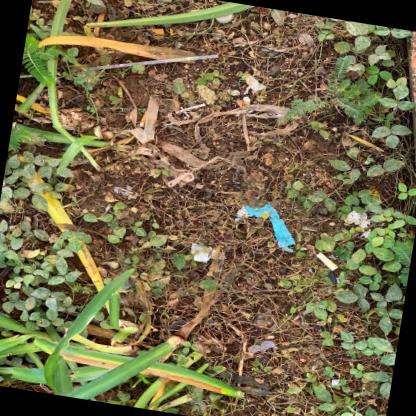Paper: (235, 202, 294, 251), (314, 252, 337, 270), (136, 109, 144, 126), (148, 27, 162, 34)
Plastic: (85, 52, 217, 69), (189, 241, 215, 261), (246, 339, 277, 353), (165, 171, 193, 185), (214, 12, 232, 22)
Waste: (127, 95, 158, 142), (339, 209, 369, 227), (174, 102, 204, 112), (113, 186, 136, 198), (331, 378, 337, 385)
